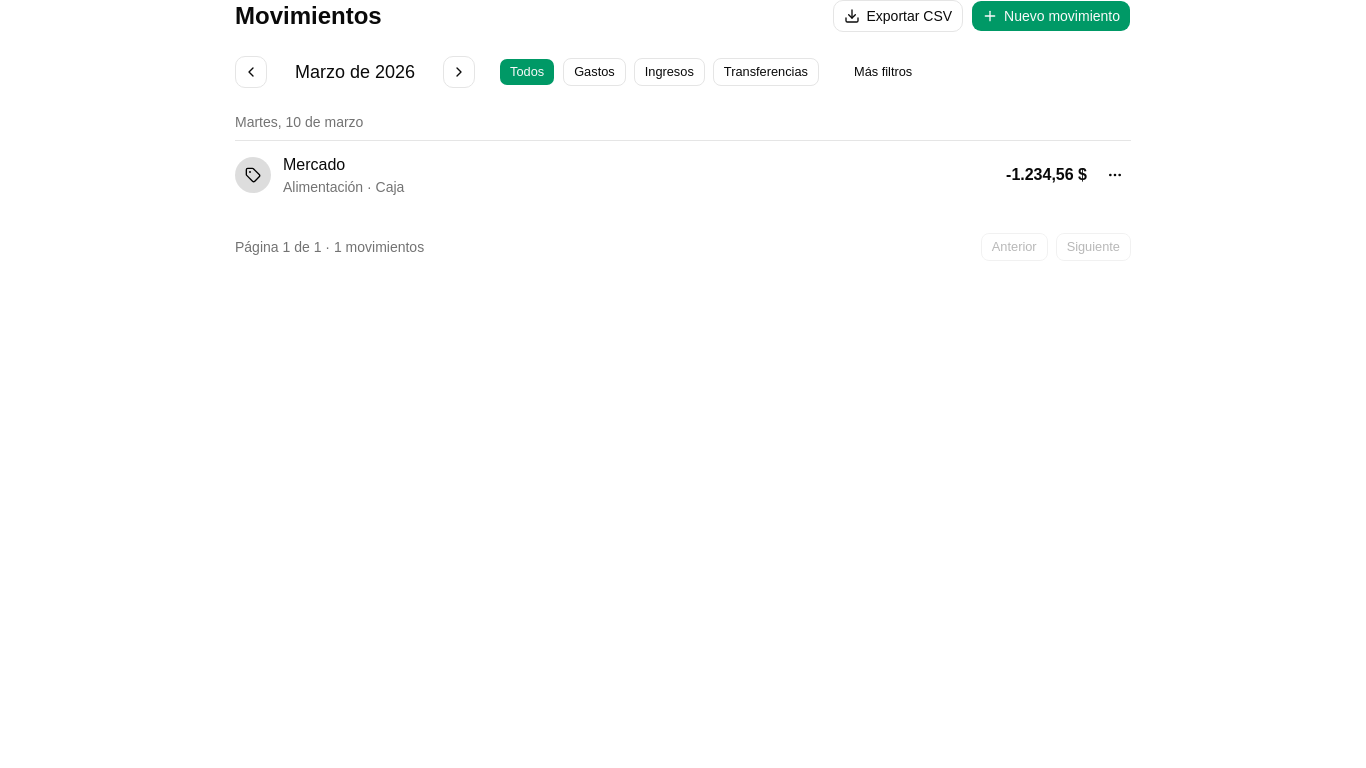
Test case: TransactionsPage › period and filters › emptying both dates shows the whole history instead of snapping back to the month
Expected: the text "Mercado" is shown, [283,153,345,177]
What coordinates should you click on to do the following:
click the button "Más filtros"
I would click on:
 (883, 72)
Its box is [843,58,923,86].
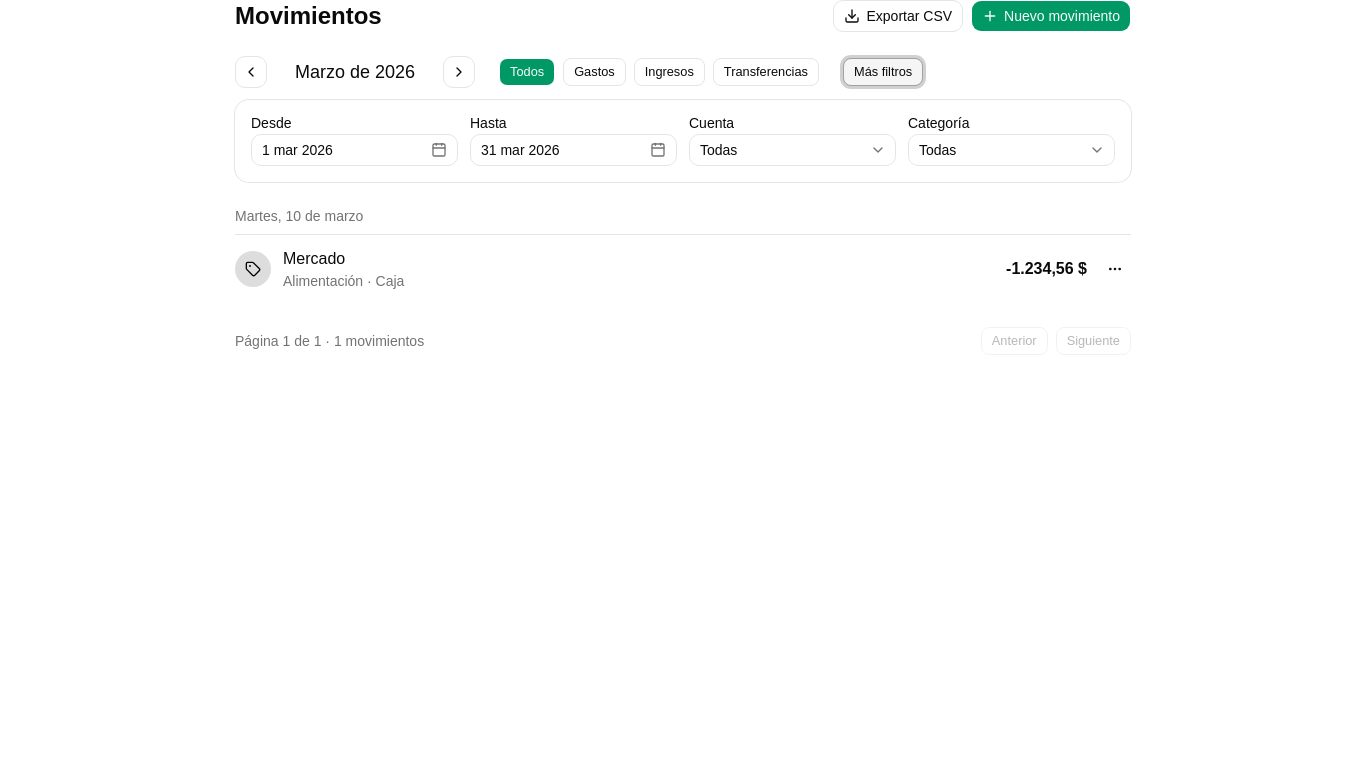
What coordinates should you click on to do the following:
click the button with aria-label "Desde"
I would click on:
 (354, 150)
Its box is [251,134,458,166].
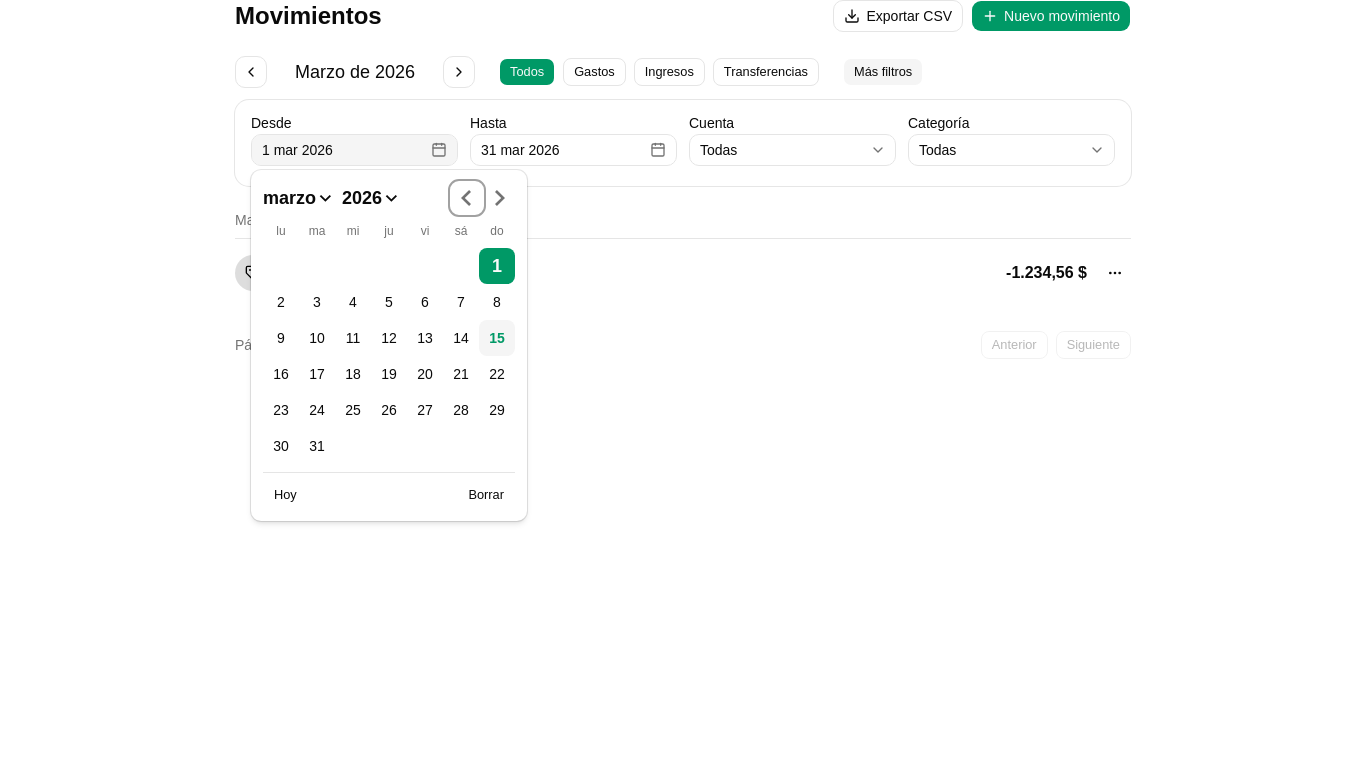
What coordinates should you click on to do the following:
click the button "Borrar"
I would click on:
 (486, 495)
Its box is [457,481,515,509].
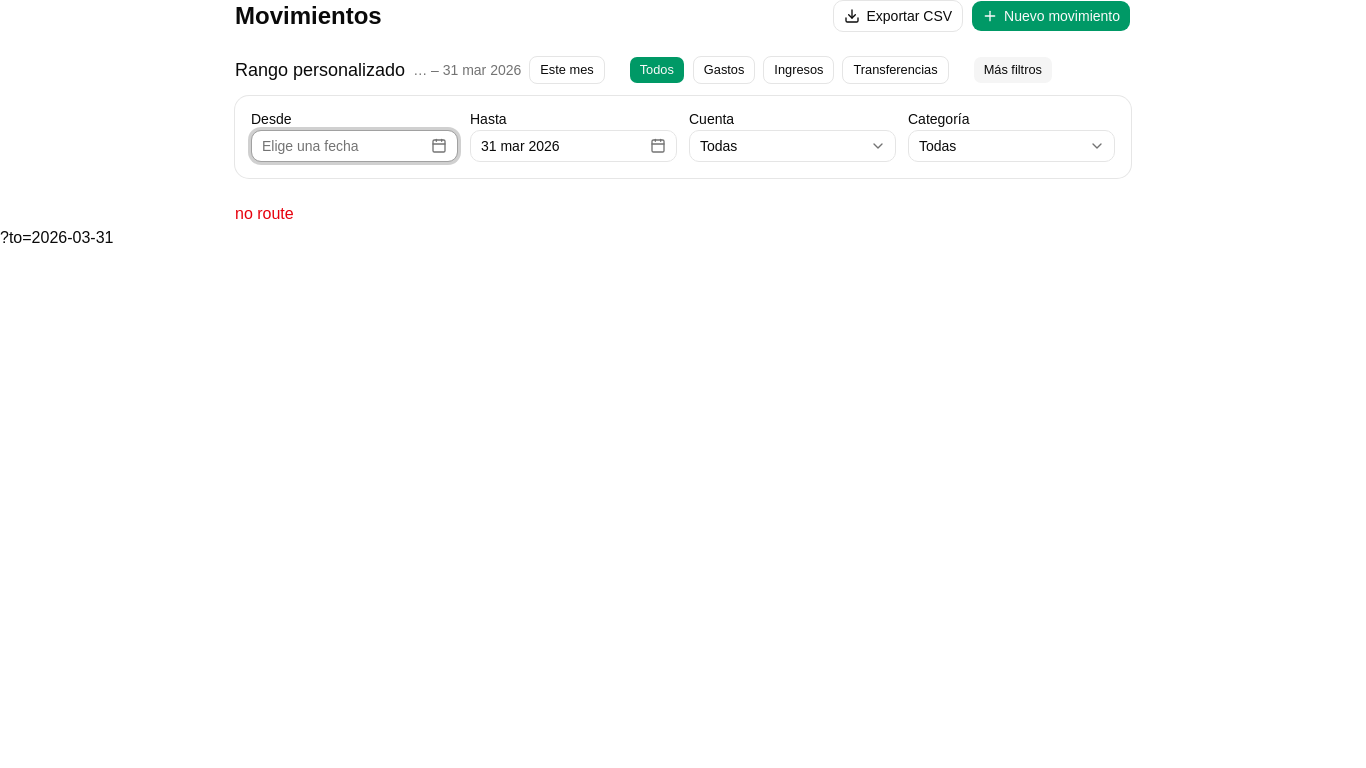
What coordinates should you click on to do the following:
click the button with aria-label "Hasta"
I would click on:
 (574, 146)
Its box is [470,130,677,162].
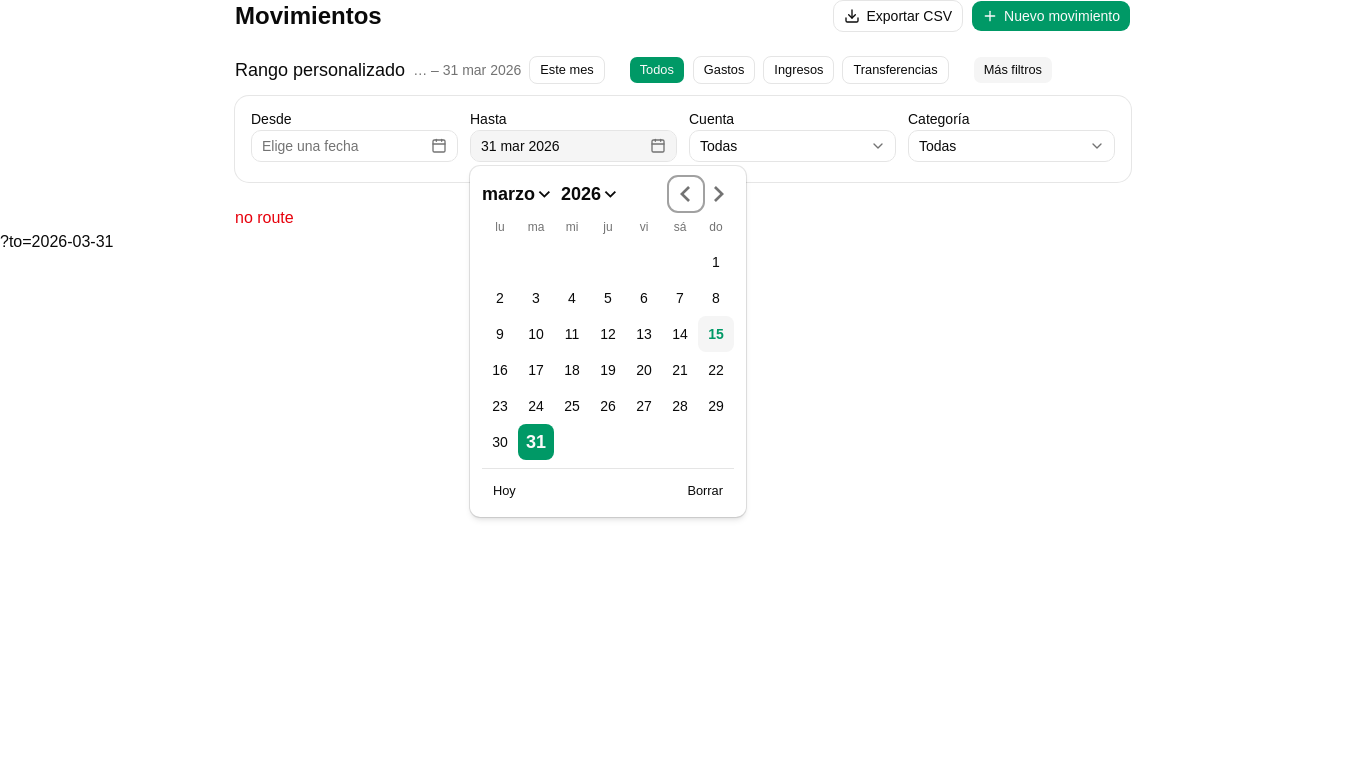
What coordinates should you click on to do the following:
click the button "Borrar"
I would click on:
 (705, 491)
Its box is [676,477,734,505].
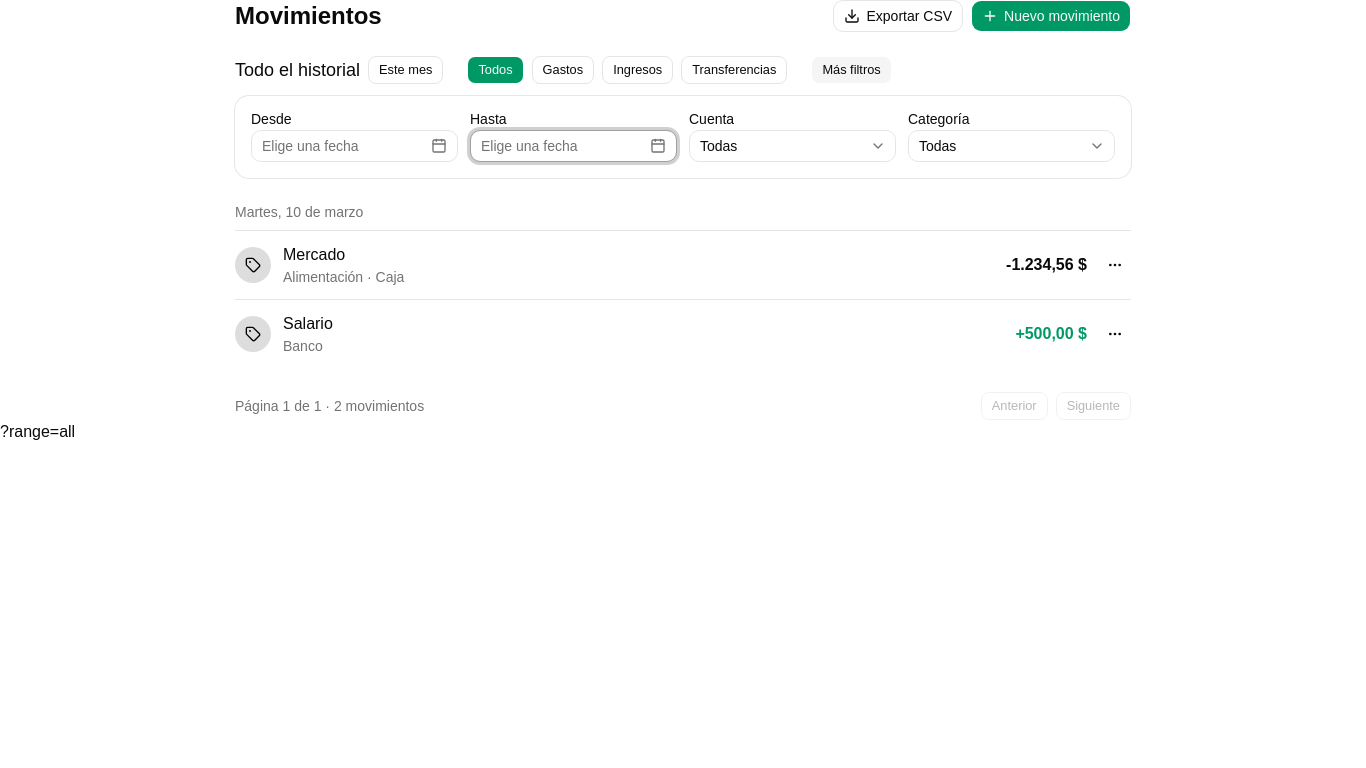
Expected: the text with test id "period" reads "Todo el historial", [235,60,360,80]
Expected: the text with test id "where" shows "range=all", [0,423,75,440]
Expected: the number of list items with test id "tx-row" is 2, [235,231,1131,300]; [235,315,1131,354]
